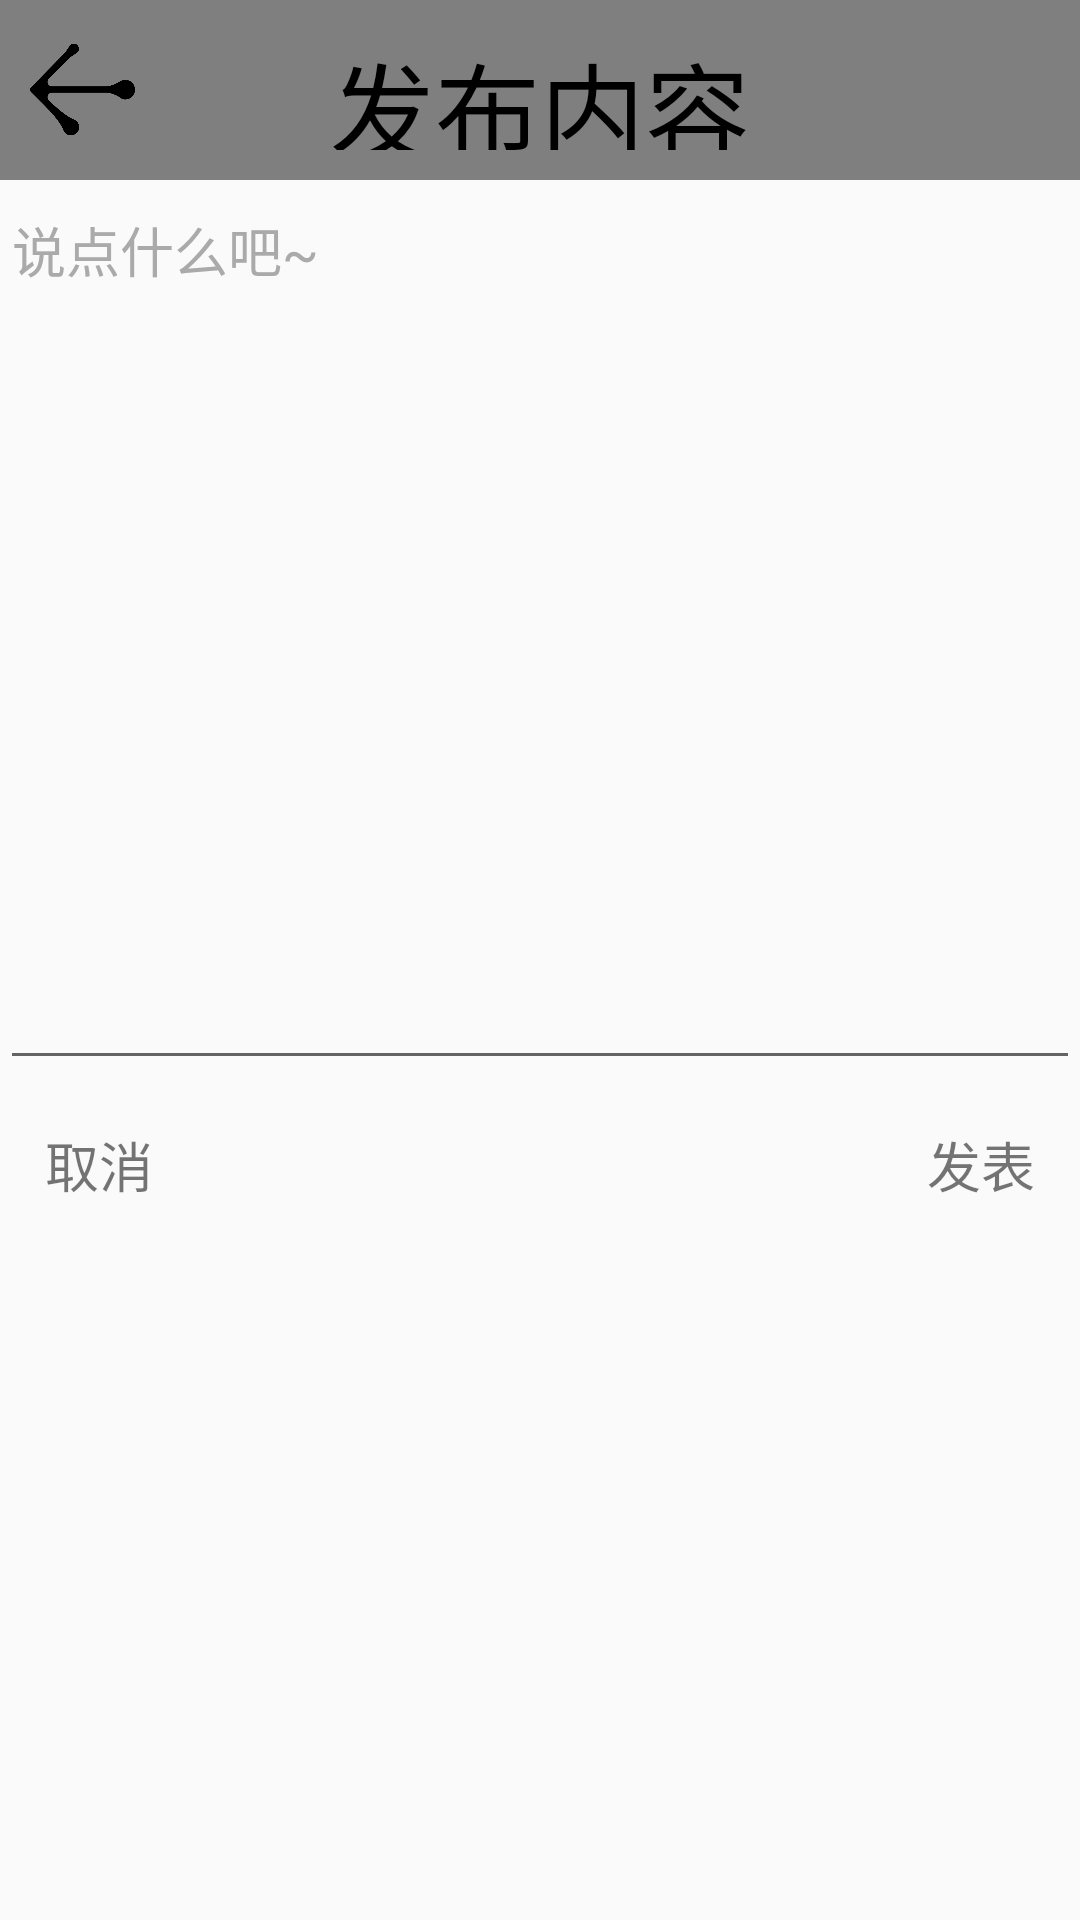

Named icons in this screenshot (1080 × 1920) and their bounding boxes, (x1, y1, x2, y2):
back: (30, 44, 135, 135)
